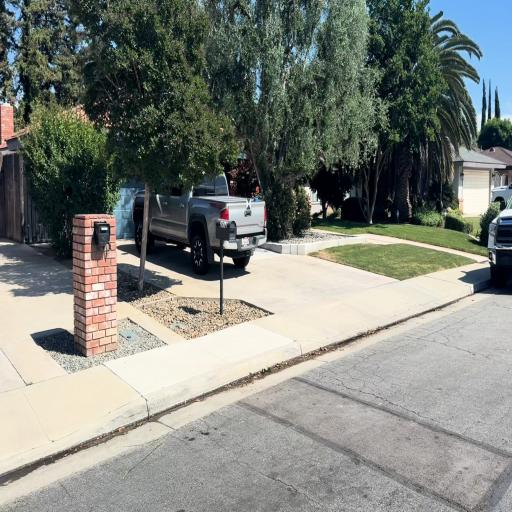target1: (246, 198, 251, 209)
